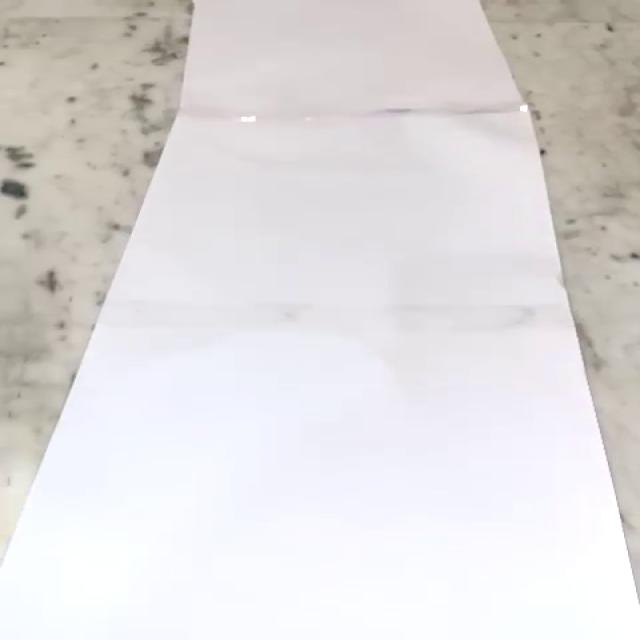road: (3, 0, 637, 640)
